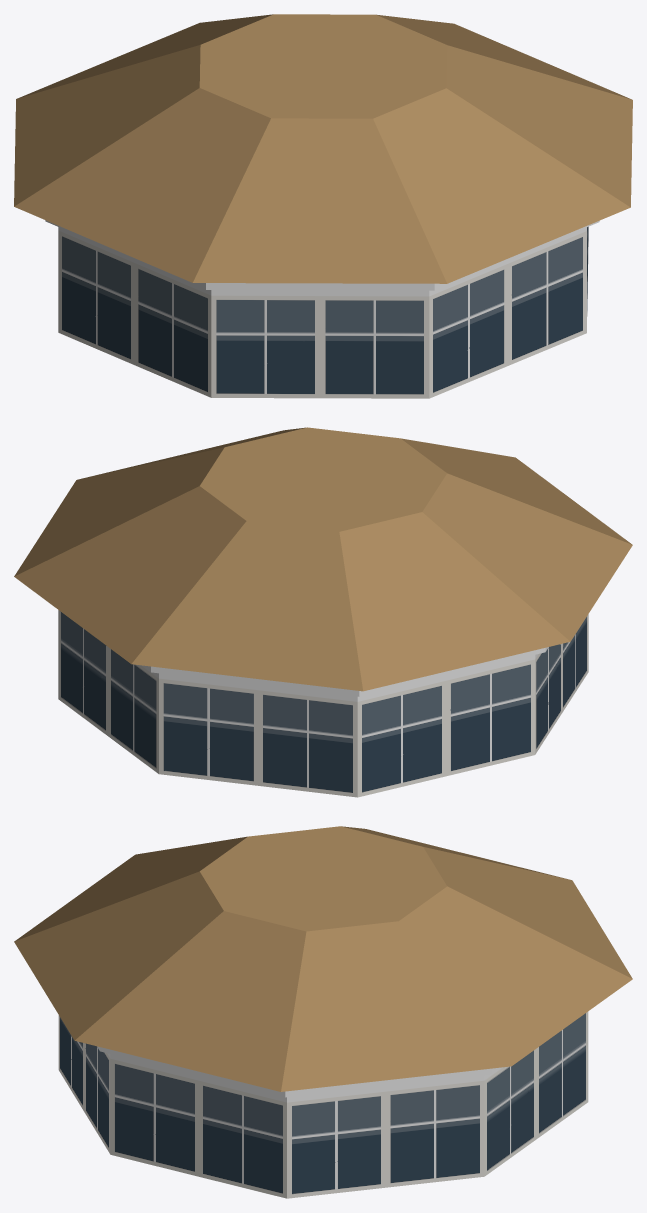
The model's file is pureocean.glb.
The picture shows the model from 3 angles, top to bottom: view 1: azimuth 30°, elevation 25°; view 2: azimuth 150°, elevation 25°; view 3: azimuth 270°, elevation 25°; orthographic projection. The views are drawn at different scales.
Parts seen in each view (by area): view 1: pureocean_lod0; view 2: pureocean_lod0; view 3: pureocean_lod0.
Boxes of the visible parts, bbox=[...] form: pureocean_lod0: bbox=[14, 14, 632, 398]; pureocean_lod0: bbox=[14, 427, 632, 797]; pureocean_lod0: bbox=[14, 826, 632, 1198].
Size of what is drawn, in the model's own units: 17.98 by 6.6 by 17.87.
Materials: 3 (1 with a texture image).
